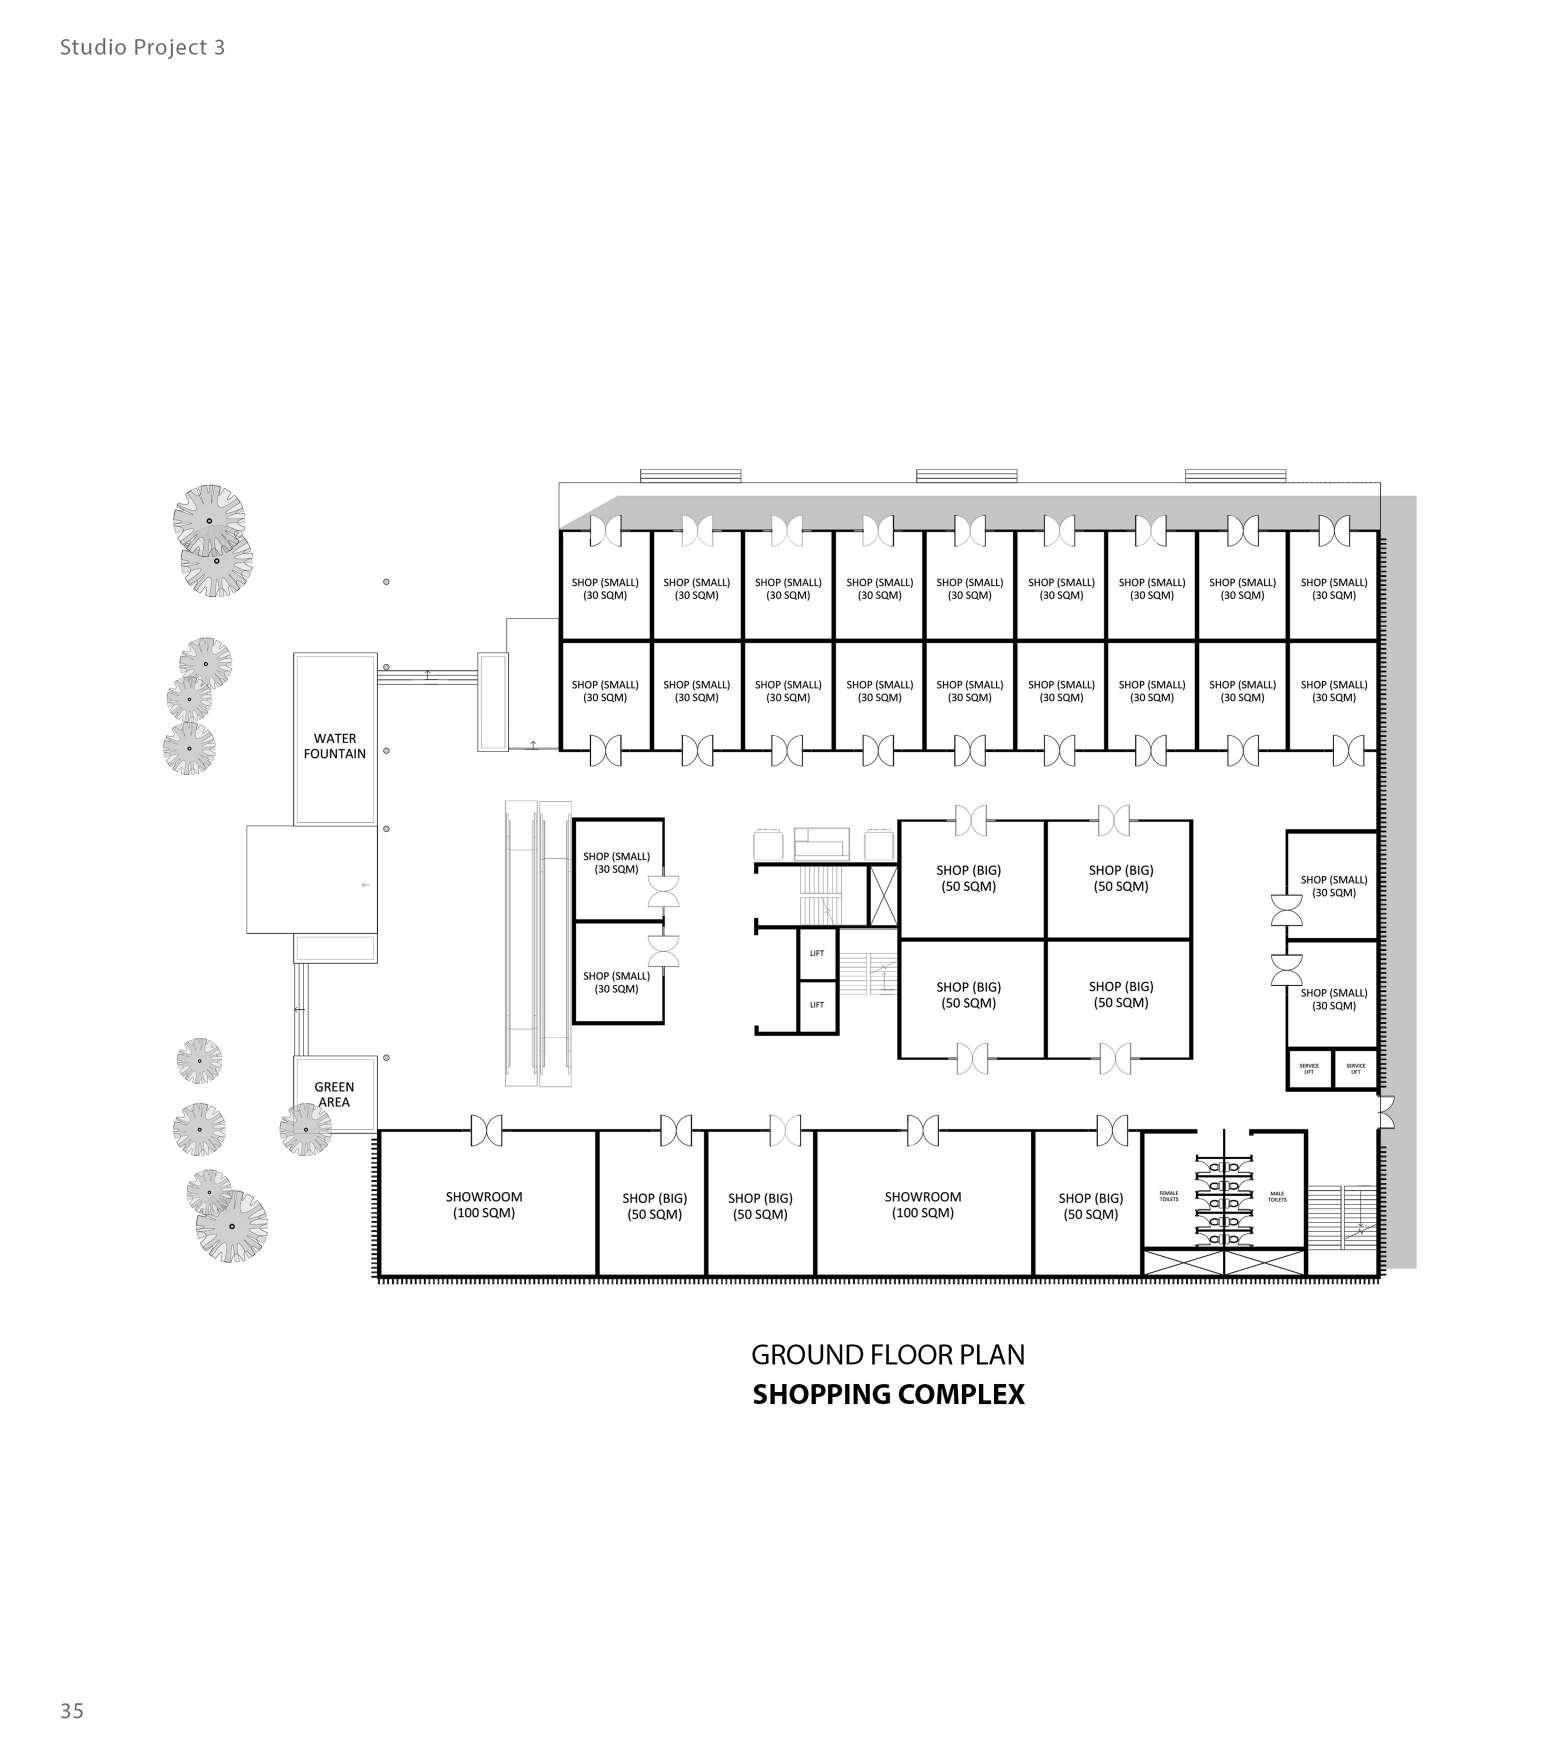room: (816, 1130, 1034, 1277), (379, 1130, 597, 1277), (900, 820, 1046, 940), (1046, 939, 1192, 1059), (1046, 820, 1190, 940), (900, 940, 1046, 1059), (706, 1130, 816, 1277), (1034, 1130, 1142, 1277), (597, 1130, 706, 1277), (832, 530, 925, 641), (1014, 530, 1108, 641), (743, 530, 835, 642), (652, 530, 743, 641), (560, 639, 652, 751), (560, 530, 652, 639), (924, 531, 1016, 641), (1196, 531, 1288, 641), (652, 641, 743, 751), (1287, 939, 1378, 1048), (1288, 639, 1378, 751), (1285, 832, 1377, 940), (1106, 531, 1196, 641), (1288, 531, 1378, 641), (1106, 641, 1196, 751), (1016, 641, 1106, 751), (925, 641, 1016, 751), (834, 642, 924, 751), (743, 642, 834, 751), (1198, 641, 1287, 751), (1225, 1130, 1306, 1249), (1142, 1131, 1223, 1250), (575, 820, 665, 922), (573, 921, 664, 1023), (1333, 1050, 1378, 1091), (1287, 1050, 1333, 1089)
